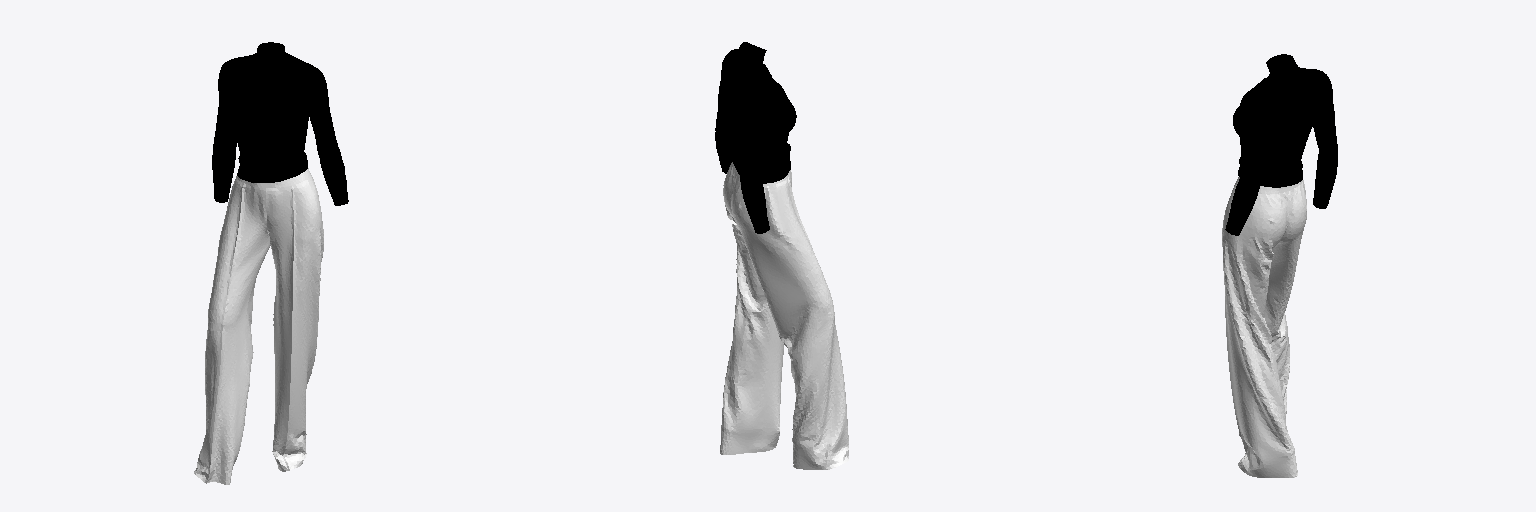
Rendered from DA_HighNeck+WidePants_0000091.obj.
The picture shows the model from 3 angles: view 1: azimuth 30°, elevation 25°; view 2: azimuth 150°, elevation 25°; view 3: azimuth 270°, elevation 25°; orthographic projection.
Size of the model in its own units: 0.5713 by 1.63 by 0.4152.